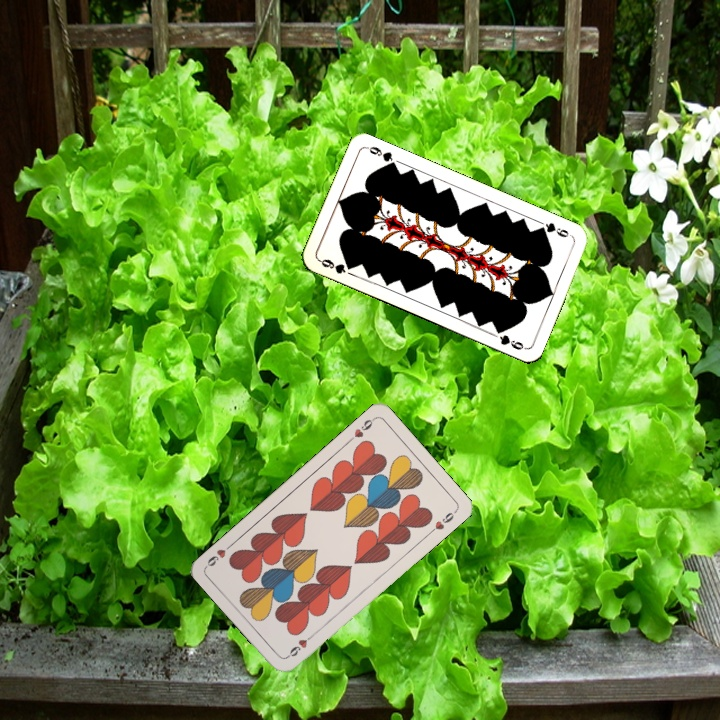G9: (534, 218, 575, 240), (315, 255, 356, 276)
H9: (344, 414, 378, 445), (283, 630, 317, 660)
